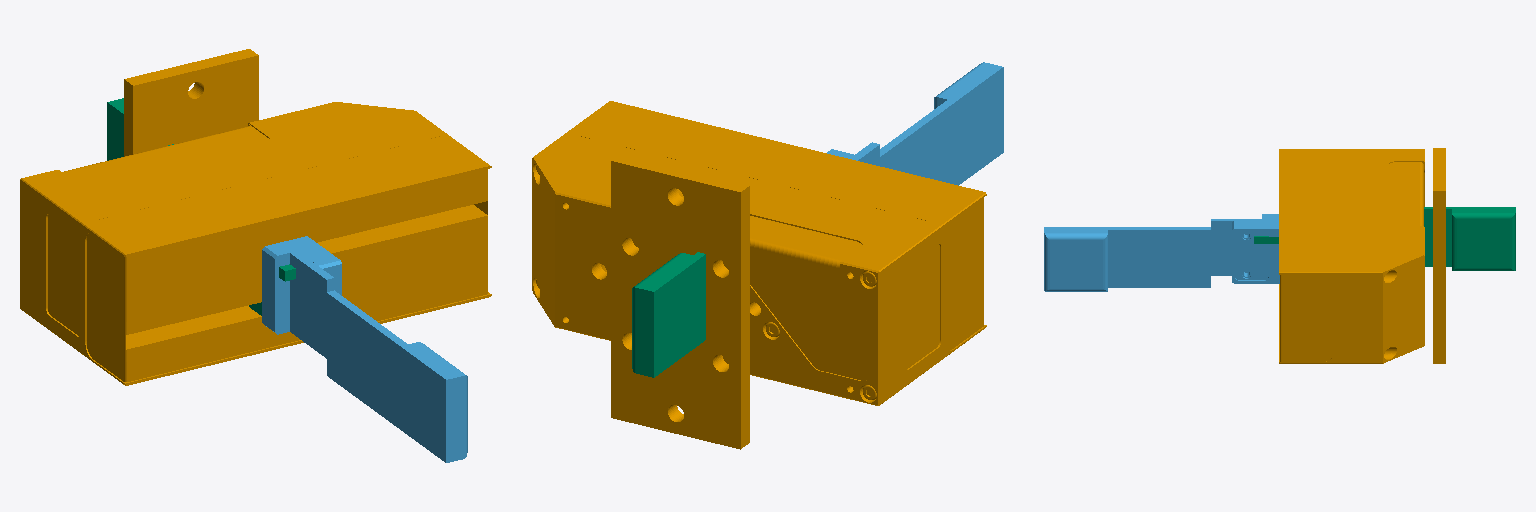
robot.urdf — wsg_50:
<?xml version="1.0" ?>
<!-- =================================================================================== -->
<!-- |    This document was autogenerated by xacro from wsg_50.urdf.xacro              | -->
<!-- |    EDITING THIS FILE BY HAND IS NOT RECOMMENDED                                 | -->
<!-- =================================================================================== -->
<robot name="wsg_50" xmlns:xacro="http://www.ros.org/wiki/xacro">
  <!-- MATERIALS -->
  <material name="Blue">
    <color rgba="0 0 1 1"/>
  </material>
  <material name="Red">
    <color rgba="1 0 0 1"/>
  </material>
  <material name="Green">
    <color rgba="0 1 0 1"/>
  </material>
  <material name="Yellow">
    <color rgba="1 1 0 1"/>
  </material>
  <material name="LightGrey">
    <color rgba="0.6 0.6 0.6 1.0"/>
  </material>
  <!-- END OF MATERIALS -->
  <!-- XACRO MACROS FOR VISUALS AND COLLISIONS -->
  <!-- END OF XACRO MACROS -->
  <link name="palm">
    <inertial>
      <origin rpy="0 0 0" xyz="0 0 0"/>
      <mass value="1"/>
      <inertia ixx="0.01" ixy="0" ixz="0" iyy="0.01" iyz="0" izz="0.01"/>
    </inertial>
    <visual>
      <geometry>
        <mesh filename="package://schunk_description/meshes/wsg_50/palm.stl"/>
      </geometry>
    </visual>
    <!-- The gripper itself -->
    <collision>
      <geometry>
        <box size="0.1453 0.0725 0.049"/>
      </geometry>
      <origin rpy="0 0 0" xyz="0.0 -0.0351 0.0"/>
    </collision>
    <!-- the larger mounting plate -->
    <collision>
      <geometry>
        <box size="0.05 0.0064 0.095"/>
      </geometry>
      <origin rpy="0 0 0" xyz="0.0 0.007 0"/>
    </collision>
  </link>
  <joint name="wsg_50_finger_left_joint" type="prismatic">
    <origin rpy="0 1.5707 0" xyz="0 -0.0719 0"/>
    <parent link="palm"/>
    <child link="wsg_50_finger_left_link"/>
    <axis xyz="0 0 -1"/>
    <!--<limit effort="10" lower="-0.001" upper="0.109" velocity="1.0"/>-->
  </joint>
  <link name="wsg_50_finger_left_link">
    <inertial>
      <origin rpy="0 0 0" xyz="0 0 0"/>
      <mass value="1"/>
      <inertia ixx="0.01" ixy="0" ixz="0" iyy="0.01" iyz="0" izz="0.01"/>
    </inertial>
    <!-- <xacro:left_finger_pretty_visual/> -->
    <visual>
      <geometry>
        <mesh filename="package://schunk_description/meshes/wsg_50/finger_without_gelsight.stl"/>
        <material name="mostly_transparent">
          <color alpha="0.1" rgb="[phone redacted]"/>
        </material>
      </geometry>
    </visual>
    <collision>
      <geometry>
        <box size="0.0365 0.117 0.0122"/>
      </geometry>
      <origin rpy="0 0 0" xyz="0.003 -0.0585 -0.0106"/>
    </collision>
  </link>
  <joint name="wsg_50_finger_right_joint" type="prismatic">
    <origin rpy="3.1415 -1.5707 0" xyz="0 -0.0719 0.0"/>
    <parent link="palm"/>
    <child link="wsg_50_finger_right_link"/>
    <axis xyz="0 0 1"/>
    <!--<limit effort="10" lower="-0.001" upper="0.109" velocity="1.0"/> -->
  </joint>
  <link name="wsg_50_finger_right_link">
    <inertial>
      <origin rpy="0 0 0" xyz="0 0 0"/>
      <mass value="1"/>
      <inertia ixx="0.01" ixy="0" ixz="0" iyy="0.01" iyz="0" izz="0.01"/>
    </inertial>
    <!-- <xacro:right_finger_pretty_visual/> -->
    <visual>
      <geometry>
        <mesh filename="package://schunk_description/meshes/wsg_50/finger_without_gelsight.stl"/>
      </geometry>
    </visual>
    <!-- Finger adapter and aluminum adapter block -->
    <collision>
      <geometry>
        <box size="0.03 0.0344 0.0344"/>
      </geometry>
      <origin rpy="0 0 0" xyz="0.0 0.0172 0.0172"/>
    </collision>
    <!-- Stick to gelsight box and backplate / optotrak marker mount -->
    <collision>
      <geometry>
        <box size="0.036 0.0883 0.0207"/>
      </geometry>
      <origin rpy="0 0 0" xyz="0.0 0.075 0.025"/>
    </collision>
    <!-- Gelsight box -->
    <collision>
      <geometry>
        <box size="0.0318 0.0318 0.037"/>
      </geometry>
      <origin rpy="0 0 0" xyz="-0.0055 0.1005 0.01231"/>
    </collision>
  </link>
  <!-- extensions -->
  <transmission name="wsg_50_finger_left_trans">
    <type>transmission_interface/SimpleTransmission</type>
    <joint name="wsg_50_finger_left_joint"/>
    <actuator name="wsg_50_finger_left_motor">
      <hardwareInterface>EffortJointInterface</hardwareInterface>
      <mechanicalReduction>1</mechanicalReduction>
    </actuator>
  </transmission>
  <transmission name="wsg_50_finger_right_trans">
    <type>transmission_interface/SimpleTransmission</type>
    <joint name="wsg_50_finger_right_joint"/>
    <actuator name="wsg_50_finger_right_motor">
      <hardwareInterface>EffortJointInterface</hardwareInterface>
      <mechanicalReduction>1</mechanicalReduction>
    </actuator>
  </transmission>
</robot>

--- What the picture shows (computed from the rendered views, not written in the file) ---
Views: 3 orthographic renders of the robot side by side, from view 1: azimuth 30°, elevation 25°; view 2: azimuth 150°, elevation 25°; view 3: azimuth 270°, elevation 25°.
Model wsg_50 with 3 links and 2 joints (2 prismatic), rooted at palm, posed every joint at zero.
Visible links, largest first — view 1: palm, wsg_50_finger_left_link, wsg_50_finger_right_link; view 2: palm, wsg_50_finger_left_link, wsg_50_finger_right_link; view 3: palm, wsg_50_finger_left_link, wsg_50_finger_right_link.
Link boxes in pixels (x1,y1,x2,y2): palm: (20, 49, 491, 385); wsg_50_finger_left_link: (262, 236, 467, 462); wsg_50_finger_right_link: (107, 98, 295, 315); palm: (532, 101, 986, 449); wsg_50_finger_left_link: (827, 62, 1003, 185); wsg_50_finger_right_link: (632, 252, 705, 377); palm: (1279, 148, 1445, 363); wsg_50_finger_left_link: (1044, 214, 1279, 291); wsg_50_finger_right_link: (1254, 207, 1515, 270).
Bounding box of the posed robot: 0.146 × 0.2339 × 0.095 m (x, y, z).
Meshes: 2 distinct files referenced, 3 mesh visuals loaded (2 binary STL).